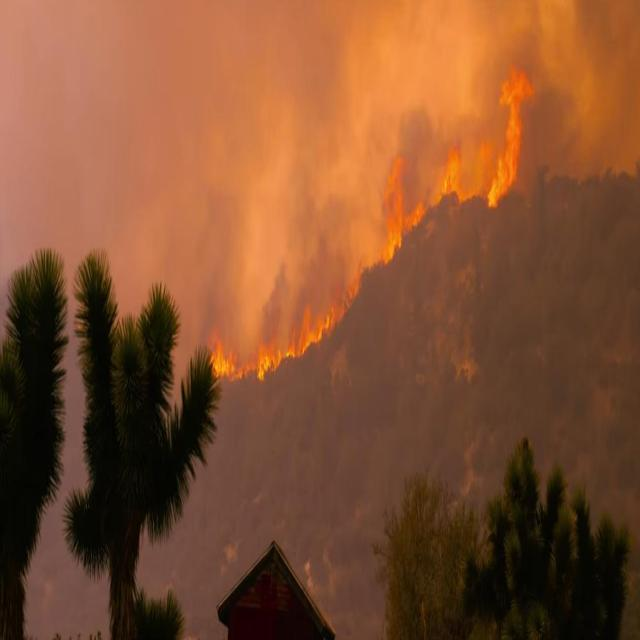Fire: (488, 63, 532, 209), (207, 330, 257, 386), (382, 158, 401, 265), (298, 309, 332, 366), (257, 337, 294, 384), (438, 137, 463, 199), (404, 201, 426, 237)
Smoke: (400, 97, 432, 209), (293, 237, 328, 325), (258, 261, 292, 341)
